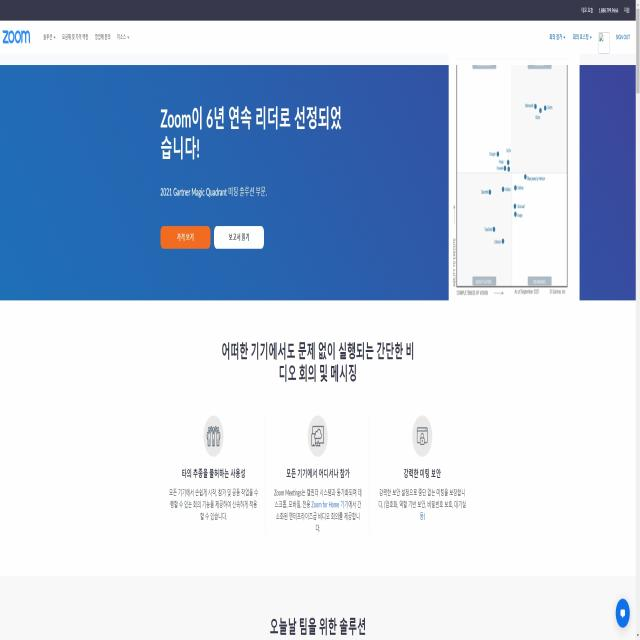menu-bar: (546, 22, 632, 54)
tab-bar: (2, 25, 134, 50)
